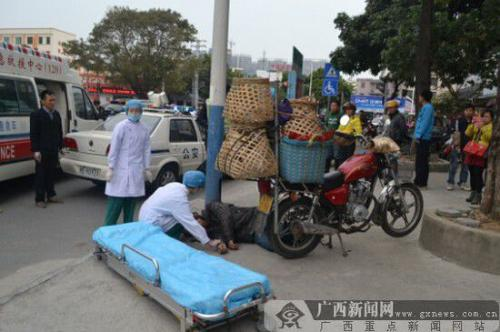10+: (26, 81, 497, 257)
down: (185, 198, 320, 255)
